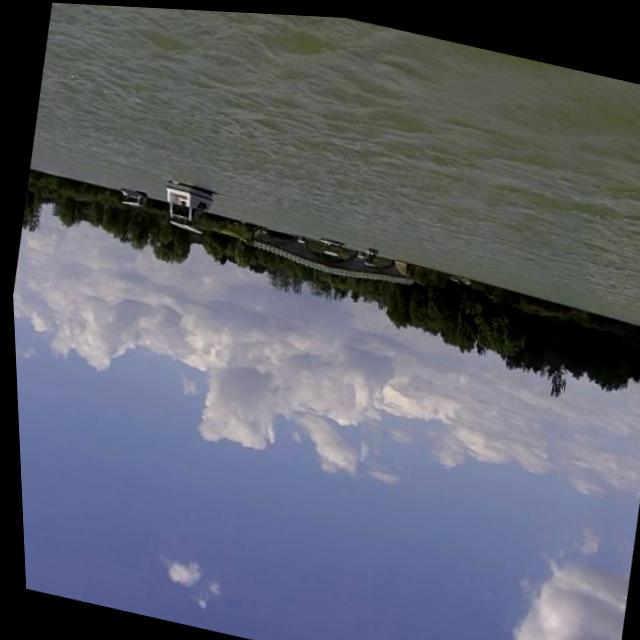ship2: (160, 180, 209, 230)
